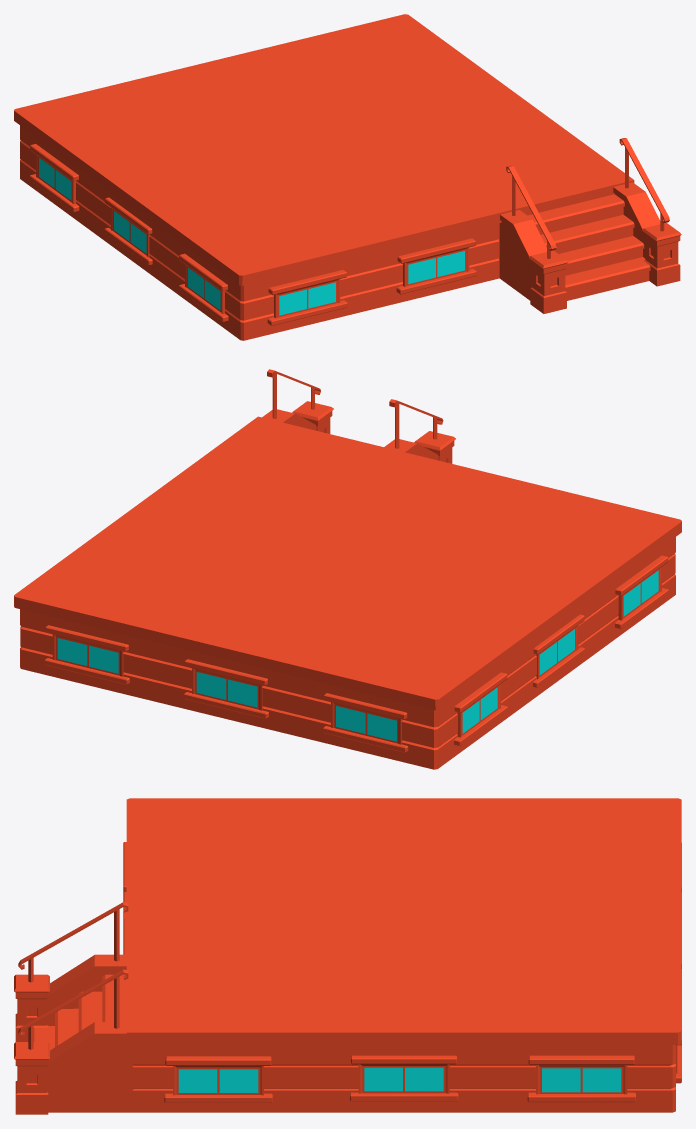
The model's file is SM_Squarehouse_Bottom_Small_B_AS_City.fbx.
The picture shows the model from 3 angles, top to bottom: view 1: azimuth 30°, elevation 25°; view 2: azimuth 150°, elevation 25°; view 3: azimuth 270°, elevation 25°; orthographic projection. The views are drawn at different scales.
Visible parts, largest first — view 1: SM_Squarehouse_Bottom_Small_B_AS_City; view 2: SM_Squarehouse_Bottom_Small_B_AS_City; view 3: SM_Squarehouse_Bottom_Small_B_AS_City.
Boxes of the visible parts, left/top/right/bottom form: SM_Squarehouse_Bottom_Small_B_AS_City: left=14, top=14, right=681, bottom=340; SM_Squarehouse_Bottom_Small_B_AS_City: left=14, top=369, right=681, bottom=769; SM_Squarehouse_Bottom_Small_B_AS_City: left=14, top=798, right=681, bottom=1114.
Size of the model in its own units: 6.18 by 1.67 by 7.36.
